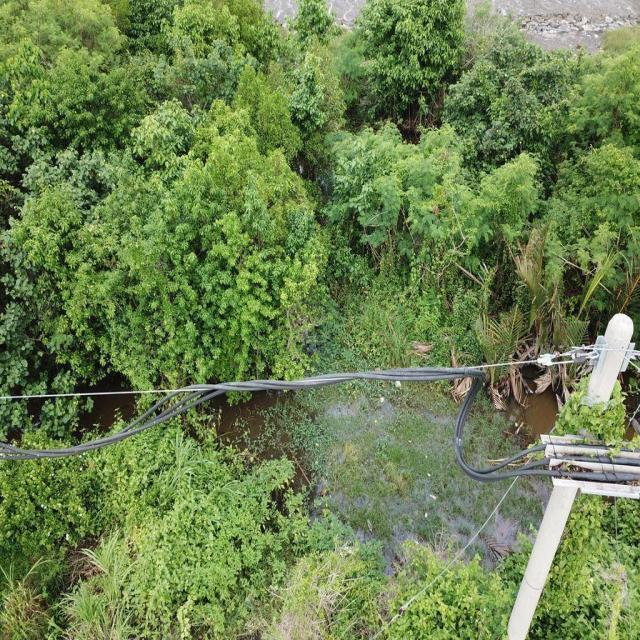critical vegetation: (546, 370, 630, 454)
